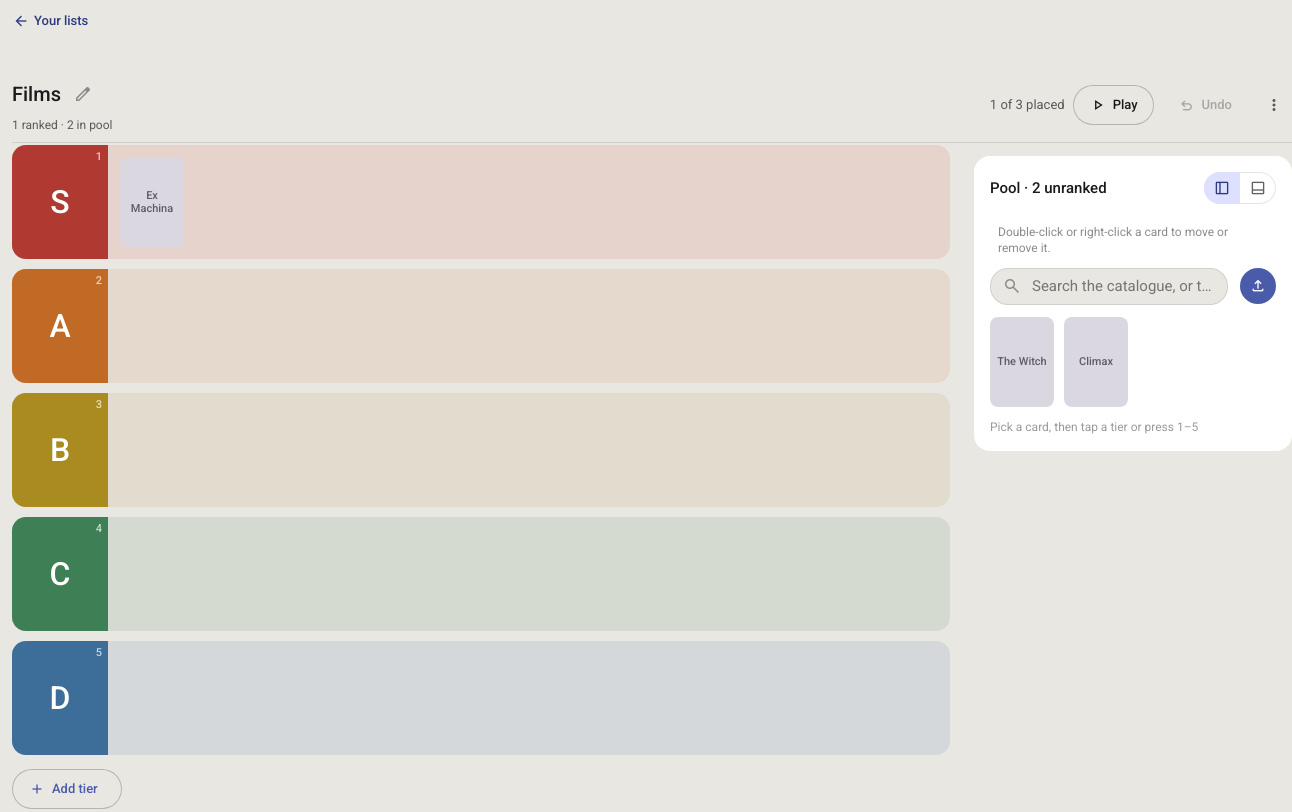
Test case: BoardPage › adds a card by name into the pool, and sends one to the trash with Undo
Step 1. Type "Heat" into the field named "Add a card" → (1123, 286), box top-left (1030, 274), bottom-right (1216, 298)
Then press Enter
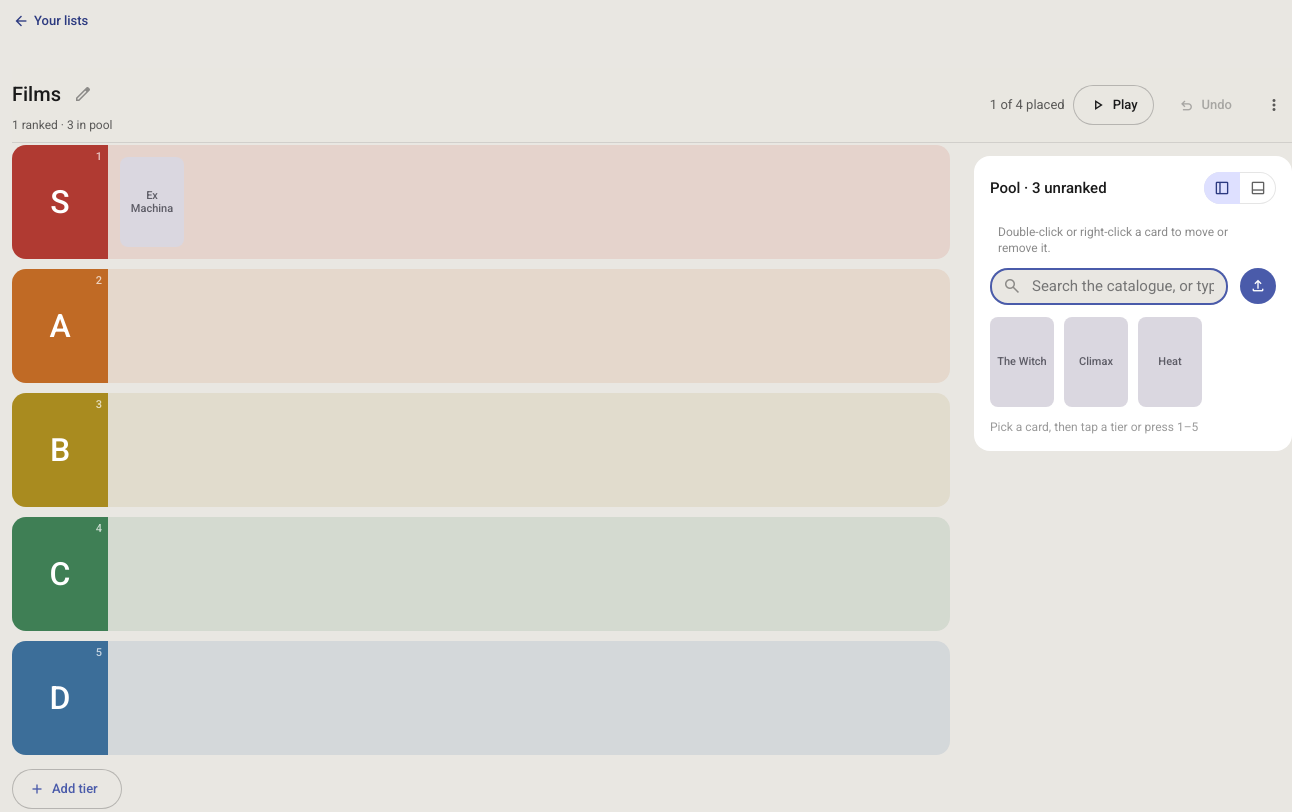
Expected: the button "Heat" is shown, top-left (1138, 316), bottom-right (1202, 406)
Note: Off the list from the card's menu, a double click away: nothing on the card itself.
Step 2. Double-click the button "Climax" → (1096, 362), box top-left (1064, 316), bottom-right (1128, 406)
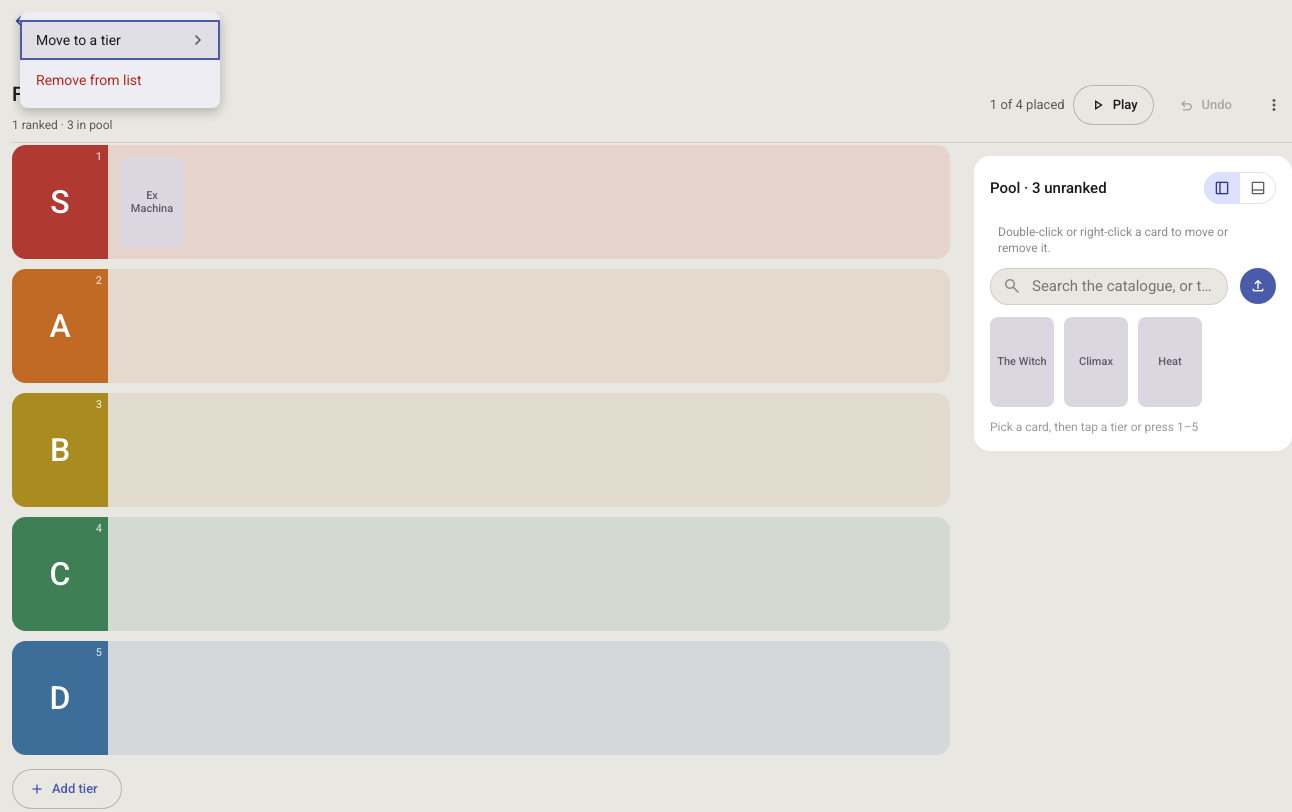
Step 3. Click the menu item "Remove from list" → (120, 80), box top-left (20, 60), bottom-right (220, 100)
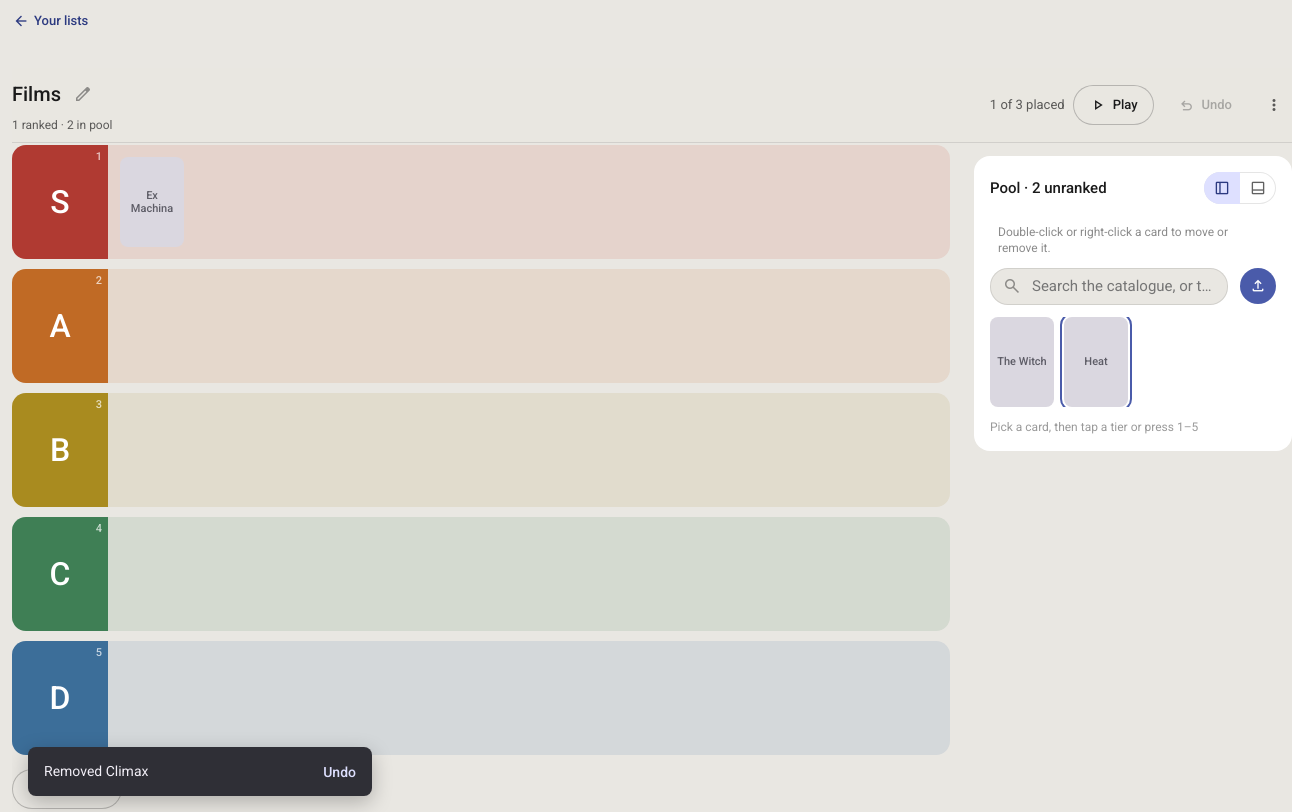
Expected: the message shows "Removed Climax", top-left (44, 763), bottom-right (148, 779)
Step 4. Click the button "Undo" in the row of "Removed Climax" → (340, 772), box top-left (323, 762), bottom-right (356, 780)
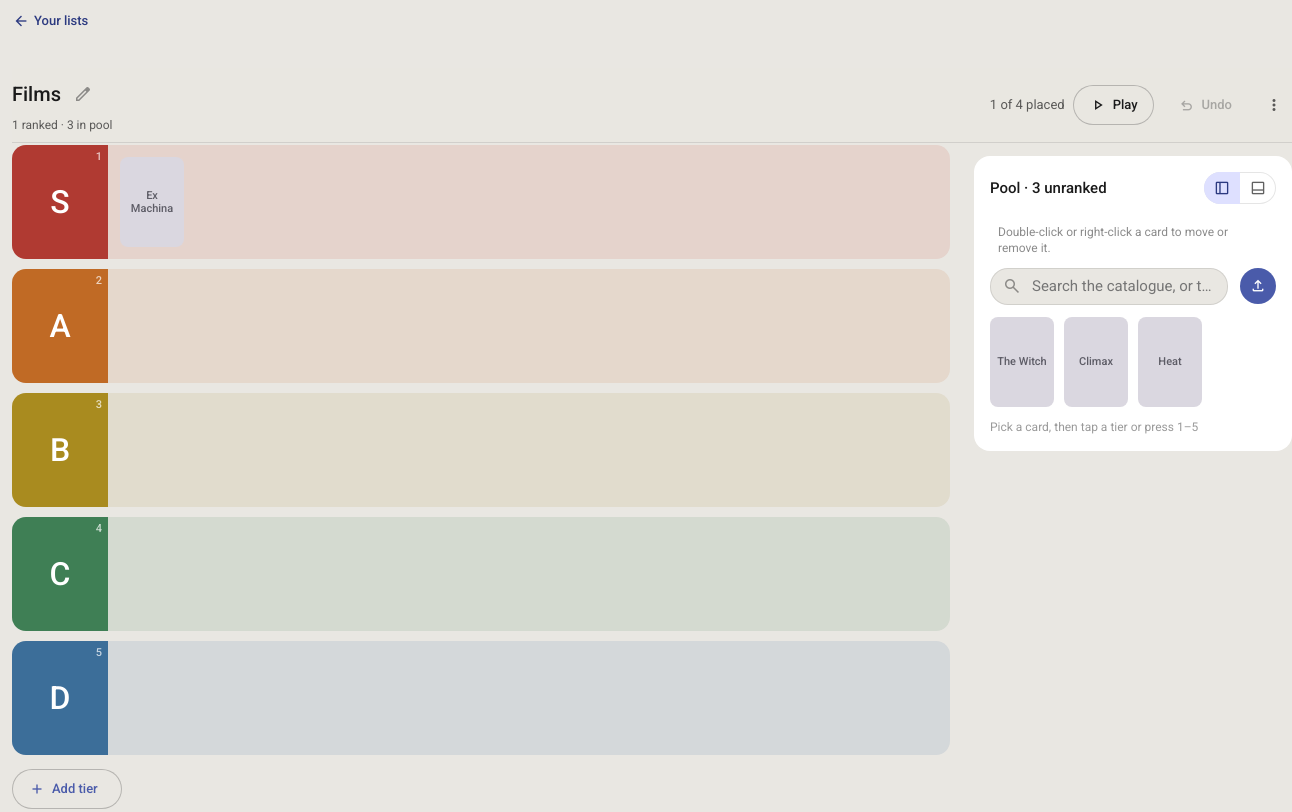
Expected: the button "Climax" is shown, top-left (1064, 316), bottom-right (1128, 406)
